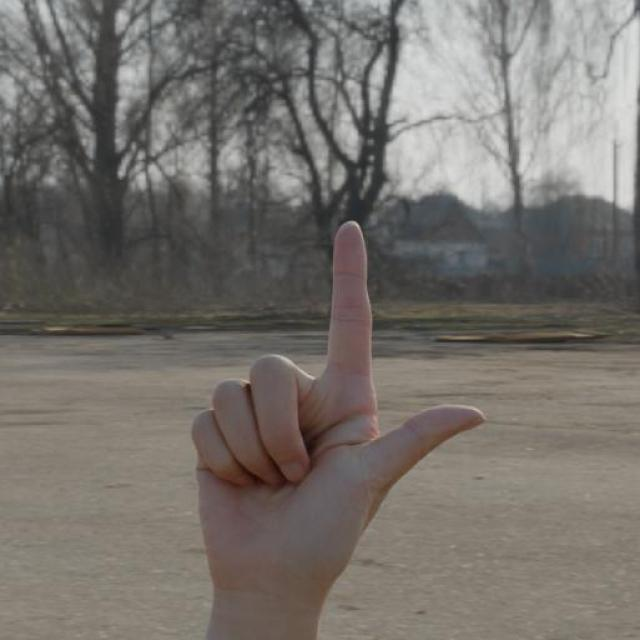L: (182, 215, 494, 609)
